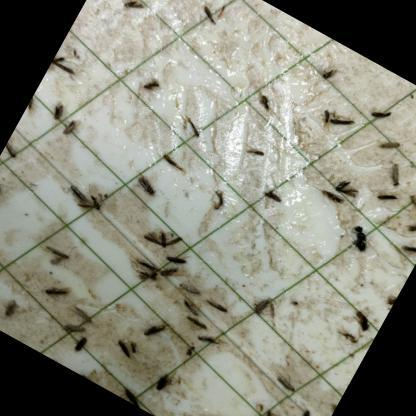prays_oleae: (121, 159, 170, 211), (60, 173, 112, 220), (36, 230, 80, 272), (135, 308, 178, 350), (140, 216, 186, 254), (146, 367, 186, 410), (264, 364, 306, 402), (244, 290, 282, 328), (45, 47, 82, 86), (342, 222, 378, 262), (344, 296, 380, 336), (173, 104, 209, 143), (324, 101, 360, 138), (333, 166, 368, 201), (193, 0, 229, 33), (116, 377, 152, 409), (38, 94, 70, 130), (199, 286, 233, 319), (0, 132, 29, 170), (107, 332, 139, 366), (314, 54, 345, 88), (67, 298, 100, 329), (242, 88, 276, 118), (42, 276, 76, 306), (240, 138, 271, 169), (202, 184, 232, 214), (137, 70, 165, 102), (381, 160, 409, 192), (162, 246, 193, 274), (372, 128, 402, 156), (178, 272, 208, 300), (152, 260, 180, 290), (0, 294, 25, 327), (368, 98, 396, 127), (57, 314, 86, 340), (398, 208, 416, 248), (55, 116, 82, 142), (76, 368, 102, 385), (402, 185, 416, 216), (119, 0, 147, 15), (292, 402, 321, 416), (0, 173, 9, 211), (255, 402, 279, 416)
